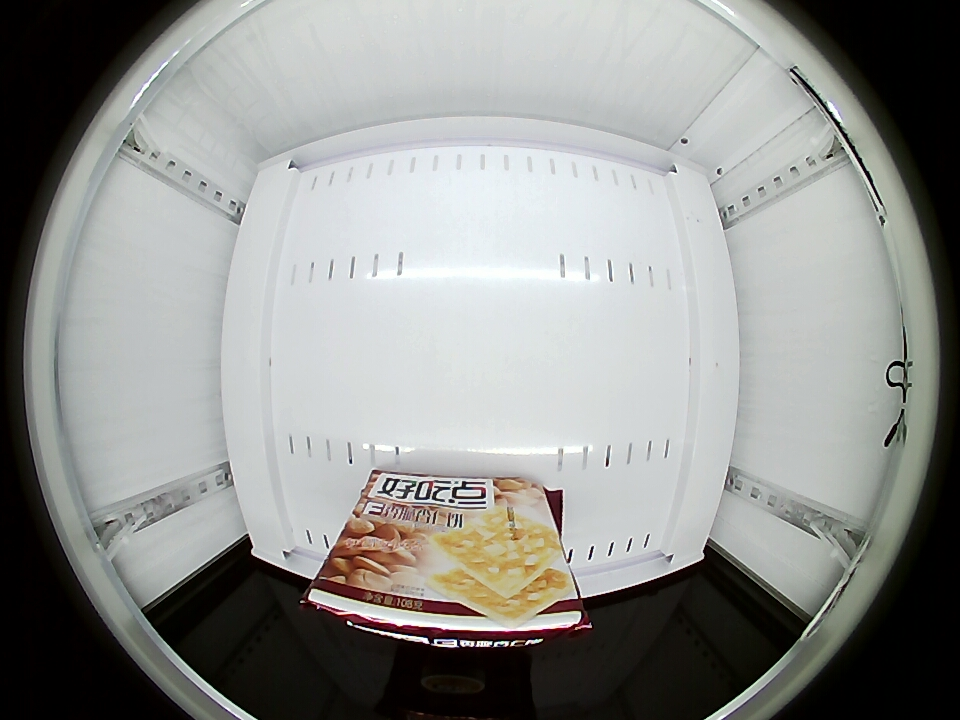haochidian: (314, 477, 581, 649)
